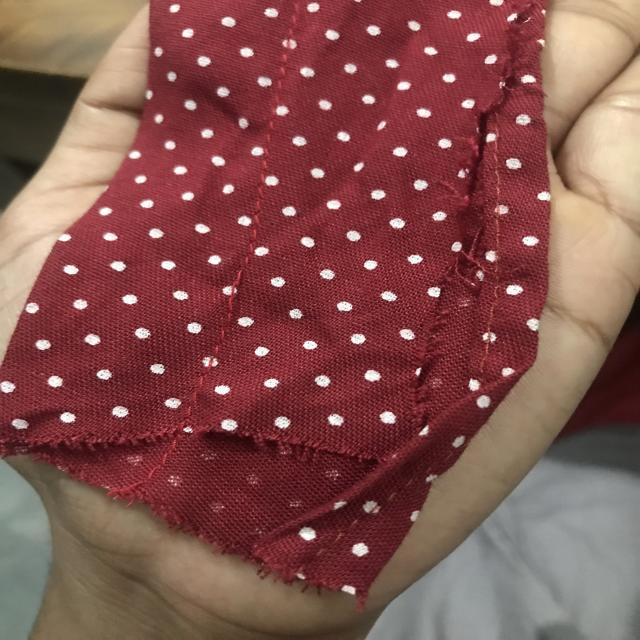skip: (220, 260, 254, 325)
